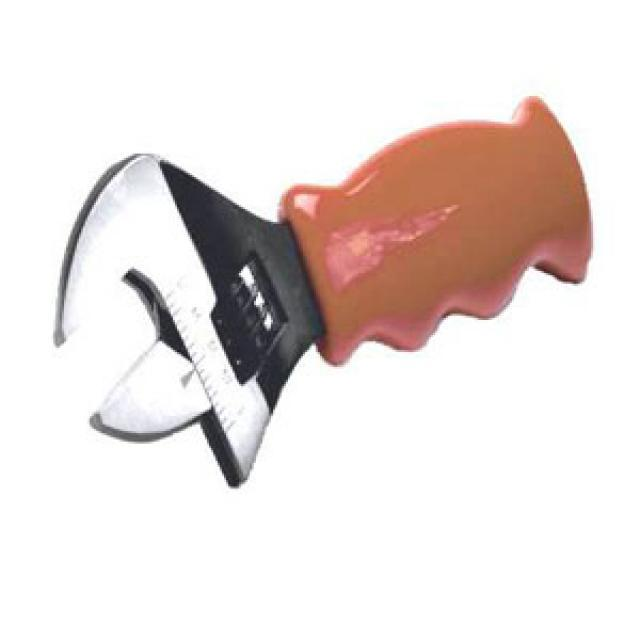wrench: (43, 86, 602, 497)
